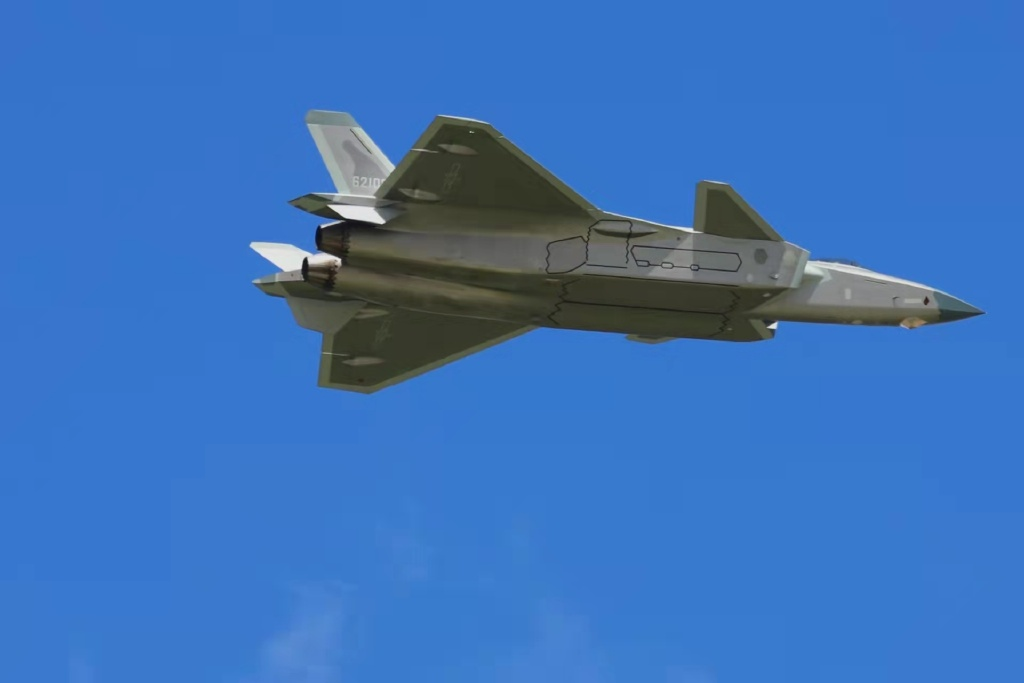J20: (248, 108, 988, 395)
